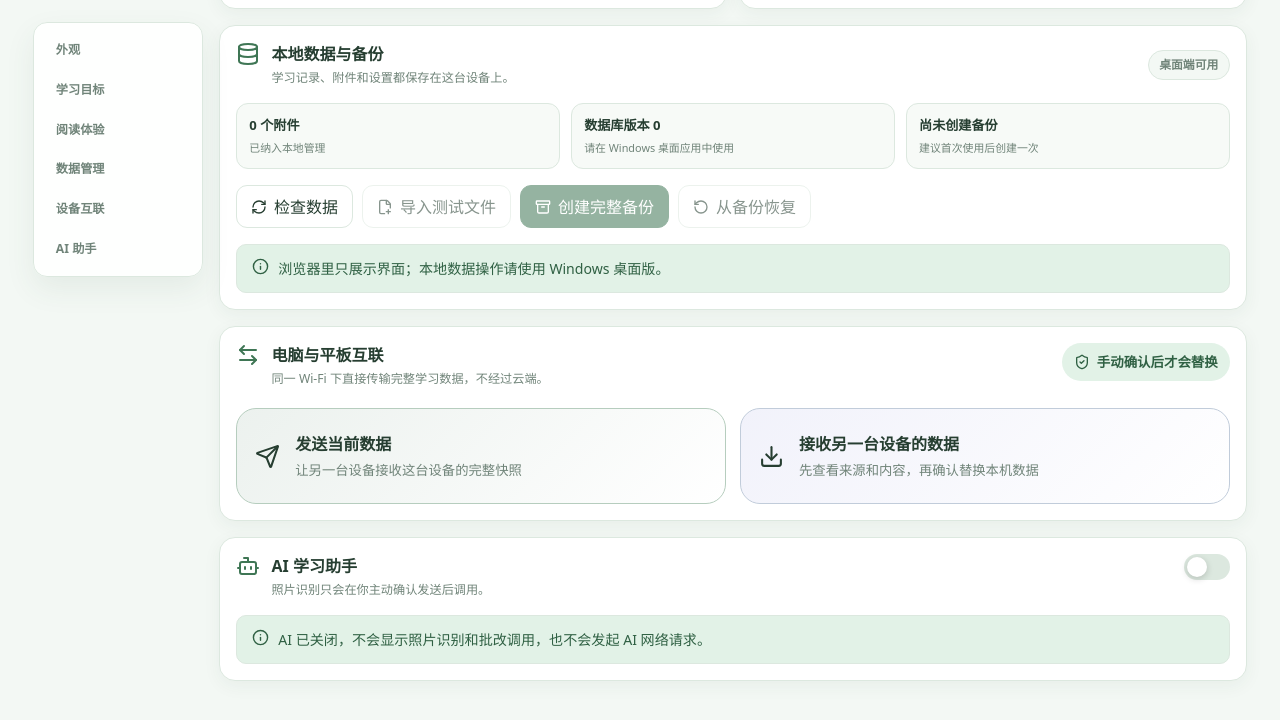
Test: hides Windows-only settings and uses device wording on Android
(page scrolled)
Expected: the text "学习记录、附件和设置都保存在这台设备上。" is shown, x1=272 y1=69 x2=515 y2=87
Click the switch named "启用 AI 学习助手".
click(1207, 567)  # box x1=1184 y1=554 x2=1230 y2=580
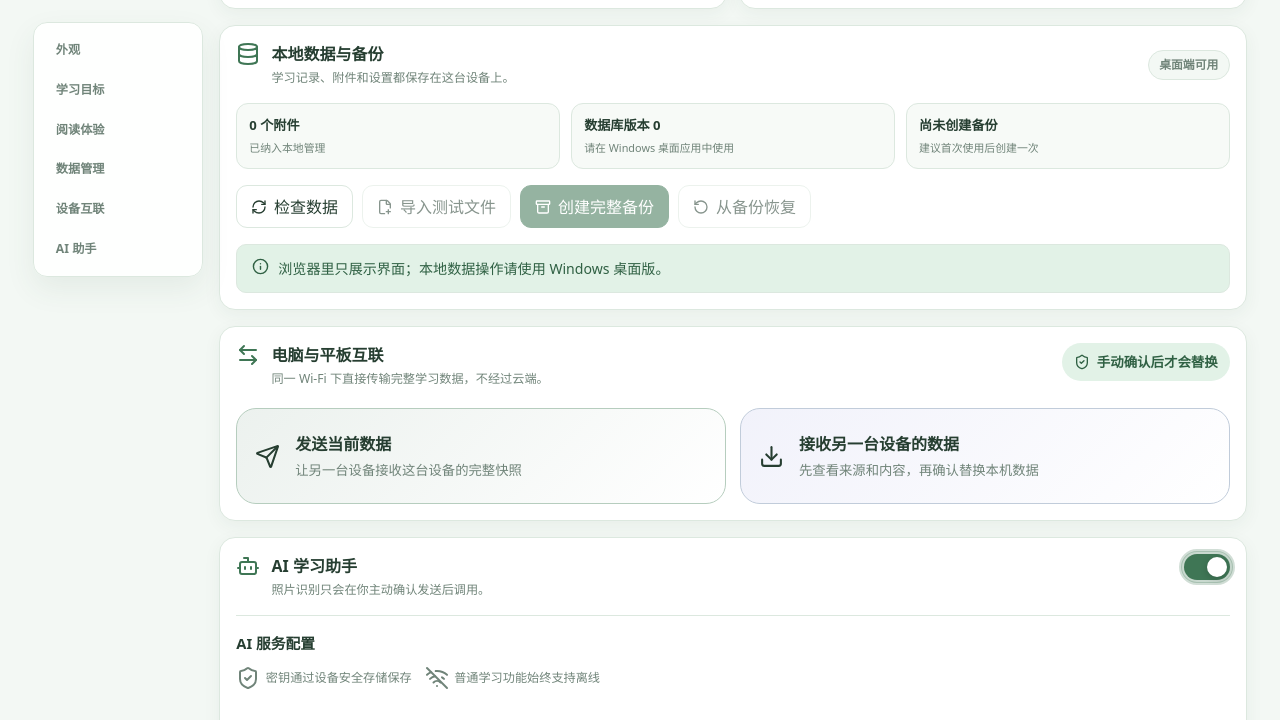
Expected: the text "密钥通过设备安全存储保存" is shown, x1=236 y1=666 x2=412 y2=690
